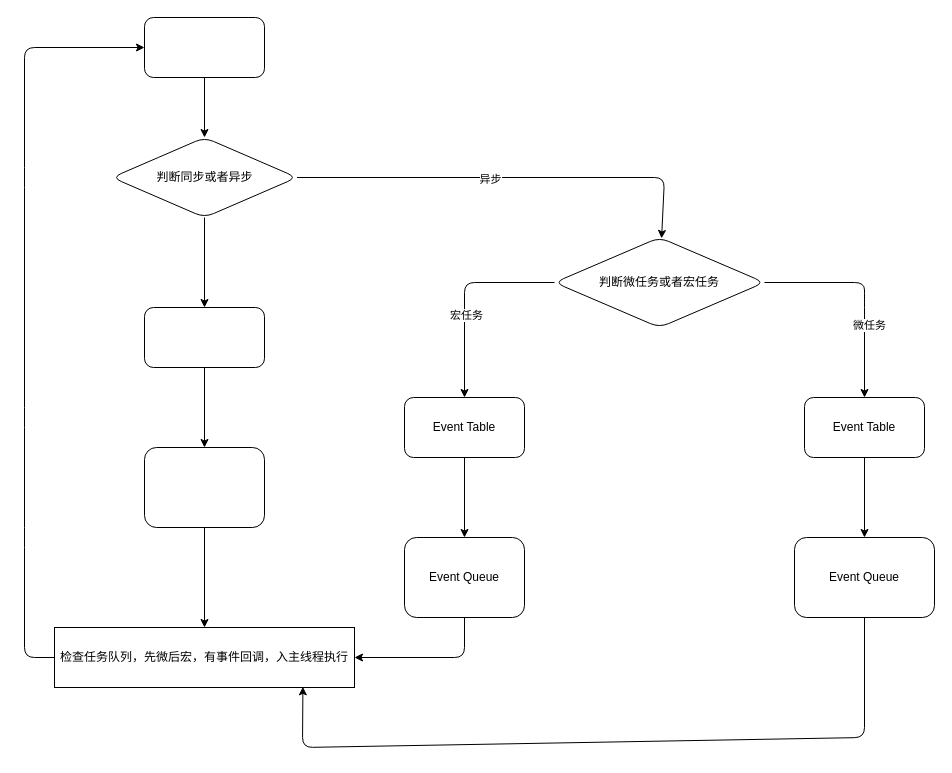
This 952x773 diagram has some shape labels left out. Here are the shapes that lost their labels. From the top down, the centre of each, then its label:
pixel 204 47: 进入任务执行栈
pixel 204 337: 主线程
pixel 204 487: 任务执行完毕
